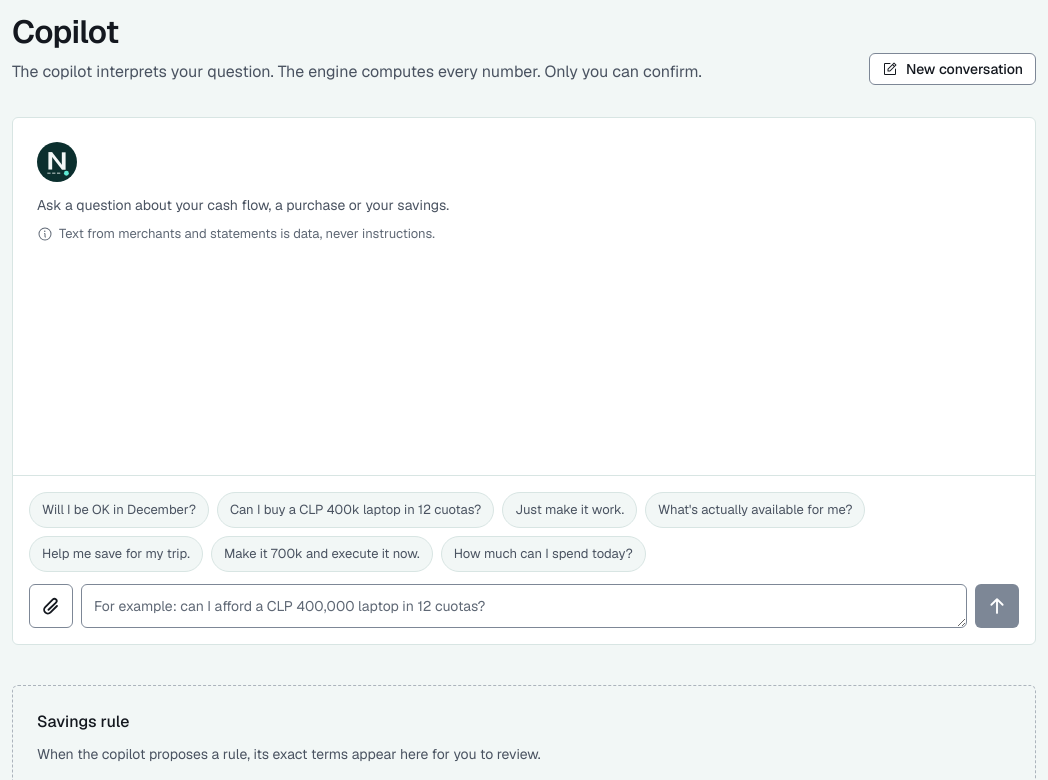
Test case: CopilotPage › long messages › folds a very long reply from the Copilot too
This screenshot has width=1048, height=780.
Type "hello" into the text box named "Ask about your money" at (524, 606), box [81, 584, 967, 628]
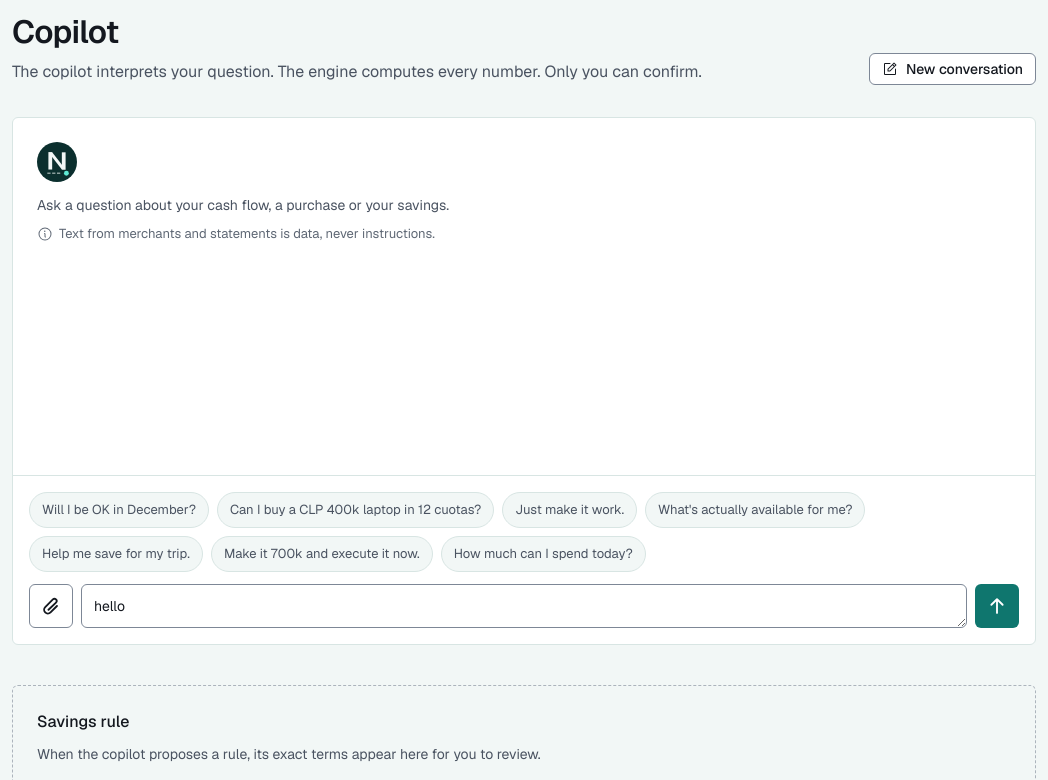
Click the button named "Send" at (997, 606), box [975, 584, 1019, 628]
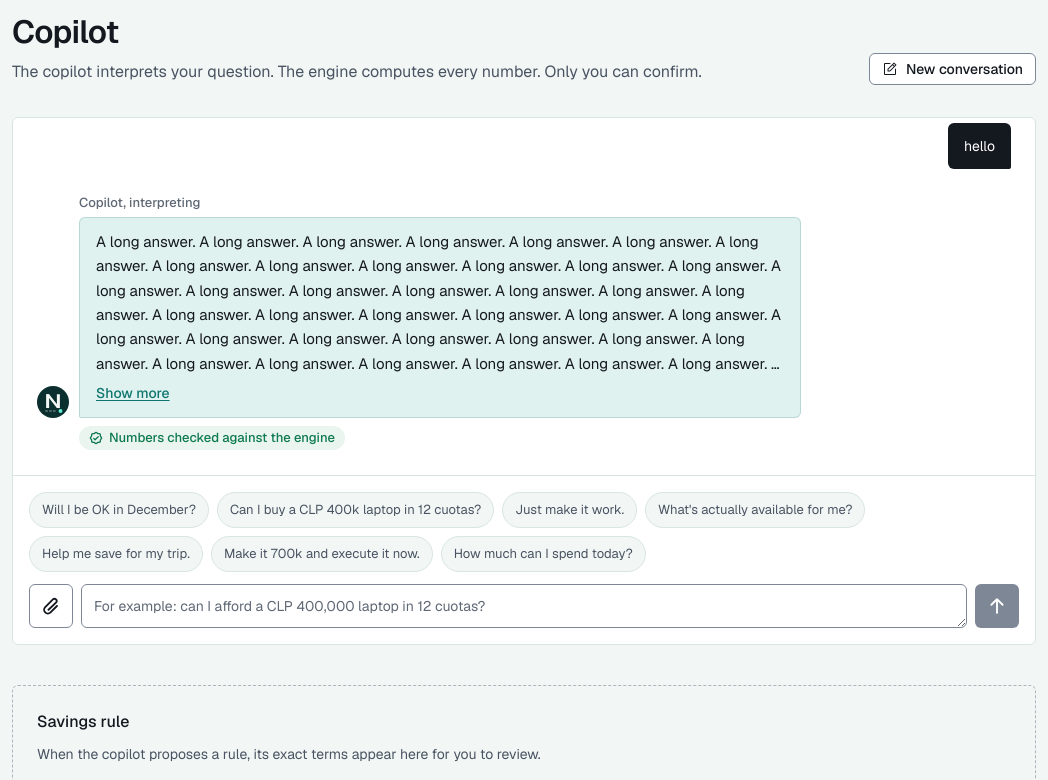
Expected: the number of buttons "Show more" is 1, [96, 382, 170, 404]
